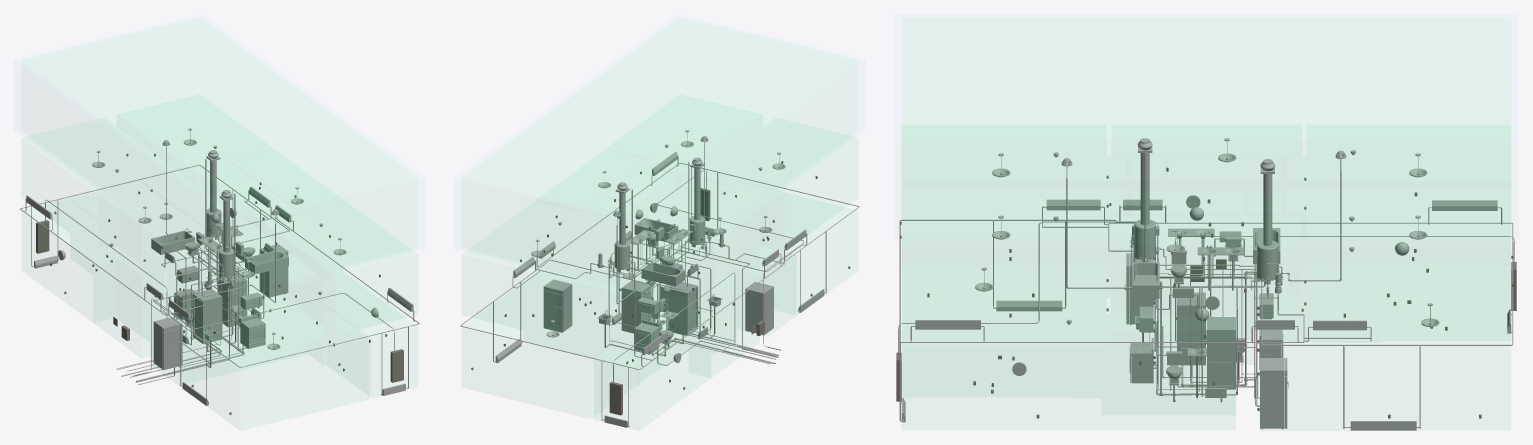
The picture shows the model from 3 angles, left to right: view 1: azimuth 30°, elevation 25°; view 2: azimuth 150°, elevation 25°; view 3: azimuth 270°, elevation 25°; orthographic projection. The views are drawn at different scales.
Visible parts, largest first — view 1: 2f8GAP3Wb6_RpjhBiN7Zoq, 2h405XijT83A$BX7w5ki4p, 3YwYaskHb9bvjoDfW05AdE, 1K7eM1Qof1dOc9$mY9I4Cj, 1K7eM1Qof1dOc9$mY9I4od, 1YLPoi73z0fvdanmaXQreg, 2h405XijT83A$BX7w5ki4b, 1jQu9wkdr0iwNuem13Fl5i, 0dJKPQcDL7OOA9T2YsJr1q, 1K7eM1Qof1dOc9$mY9I4DR; view 2: 1K7eM1Qof1dOc9$mY9I4Cj, 2h405XijT83A$BX7w5ki4p, 2f8GAP3Wb6_RpjhBiN7Zoq, 3YwYaskHb9bvjoDfW05AdE, 2h405XijT83A$BX7w5ki4b, 1KqYAj00bE8PYy0bzaxy9l, 1YLPoi73z0fvdanmaXQreg, 1ZpBelQPb2z91uXg6Q1dzp, 1jQu9wkdr0iwNuem13Fl5i, 1K7eM1Qof1dOc9$mY9I4DR; view 3: 3YwYaskHb9bvjoDfW05AdE, 1K7eM1Qof1dOc9$mY9I4Cj, 2h405XijT83A$BX7w5ki4p, 1YLPoi73z0fvdanmaXQreg, 1K7eM1Qof1dOc9$mY9I4od, 1ZpBelQPb2z91uXg6Q1dzp, 1jQu9wkdr0iwNuem13Fl5i, 2f8GAP3Wb6_RpjhBiN7Zoq, 300Pty59r6xB$nuduvUeBQ, 1jQu9wkdr0iwNuem13Fl5j, 1KqYAj00bE8PYy0bzaxy9l, 3pumjEMRj8WfnEQMDxBrk9 (+5 smaller).
Part boxes in pixels (x1,y1,x2,y2): 2f8GAP3Wb6_RpjhBiN7Zoq: [153, 317, 182, 370]; 2h405XijT83A$BX7w5ki4p: [192, 289, 222, 343]; 3YwYaskHb9bvjoDfW05AdE: [217, 272, 247, 327]; 1K7eM1Qof1dOc9$mY9I4Cj: [259, 244, 288, 297]; 1K7eM1Qof1dOc9$mY9I4od: [240, 314, 265, 348]; 1YLPoi73z0fvdanmaXQreg: [245, 250, 288, 274]; 2h405XijT83A$BX7w5ki4b: [151, 228, 194, 254]; 1jQu9wkdr0iwNuem13Fl5i: [218, 248, 234, 279]; 0dJKPQcDL7OOA9T2YsJr1q: [390, 349, 403, 382]; 1K7eM1Qof1dOc9$mY9I4DR: [36, 220, 49, 253]; 1K7eM1Qof1dOc9$mY9I4Cj: [543, 279, 572, 332]; 2h405XijT83A$BX7w5ki4p: [668, 282, 698, 335]; 2f8GAP3Wb6_RpjhBiN7Zoq: [745, 282, 773, 334]; 3YwYaskHb9bvjoDfW05AdE: [621, 280, 651, 333]; 2h405XijT83A$BX7w5ki4b: [641, 260, 685, 286]; 1KqYAj00bE8PYy0bzaxy9l: [634, 319, 659, 353]; 1YLPoi73z0fvdanmaXQreg: [634, 218, 678, 242]; 1ZpBelQPb2z91uXg6Q1dzp: [614, 241, 630, 271]; 1jQu9wkdr0iwNuem13Fl5i: [689, 216, 705, 247]; 1K7eM1Qof1dOc9$mY9I4DR: [609, 381, 622, 415]; 3YwYaskHb9bvjoDfW05AdE: [1207, 317, 1235, 389]; 1K7eM1Qof1dOc9$mY9I4Cj: [1260, 358, 1288, 429]; 2h405XijT83A$BX7w5ki4p: [1177, 292, 1205, 365]; 1YLPoi73z0fvdanmaXQreg: [1132, 257, 1159, 298]; 1K7eM1Qof1dOc9$mY9I4od: [1129, 338, 1153, 383]; 1ZpBelQPb2z91uXg6Q1dzp: [1253, 240, 1278, 284]; 1jQu9wkdr0iwNuem13Fl5i: [1134, 219, 1159, 262]; 2f8GAP3Wb6_RpjhBiN7Zoq: [1124, 253, 1153, 324]; 300Pty59r6xB$nuduvUeBQ: [994, 300, 1063, 311]; 1jQu9wkdr0iwNuem13Fl5j: [1430, 200, 1499, 210]; 1KqYAj00bE8PYy0bzaxy9l: [1259, 329, 1283, 369]; 3pumjEMRj8WfnEQMDxBrk9: [1263, 174, 1272, 242].
Bounding box in the file's own units: 8.98 × 9.76 × 17.38.
